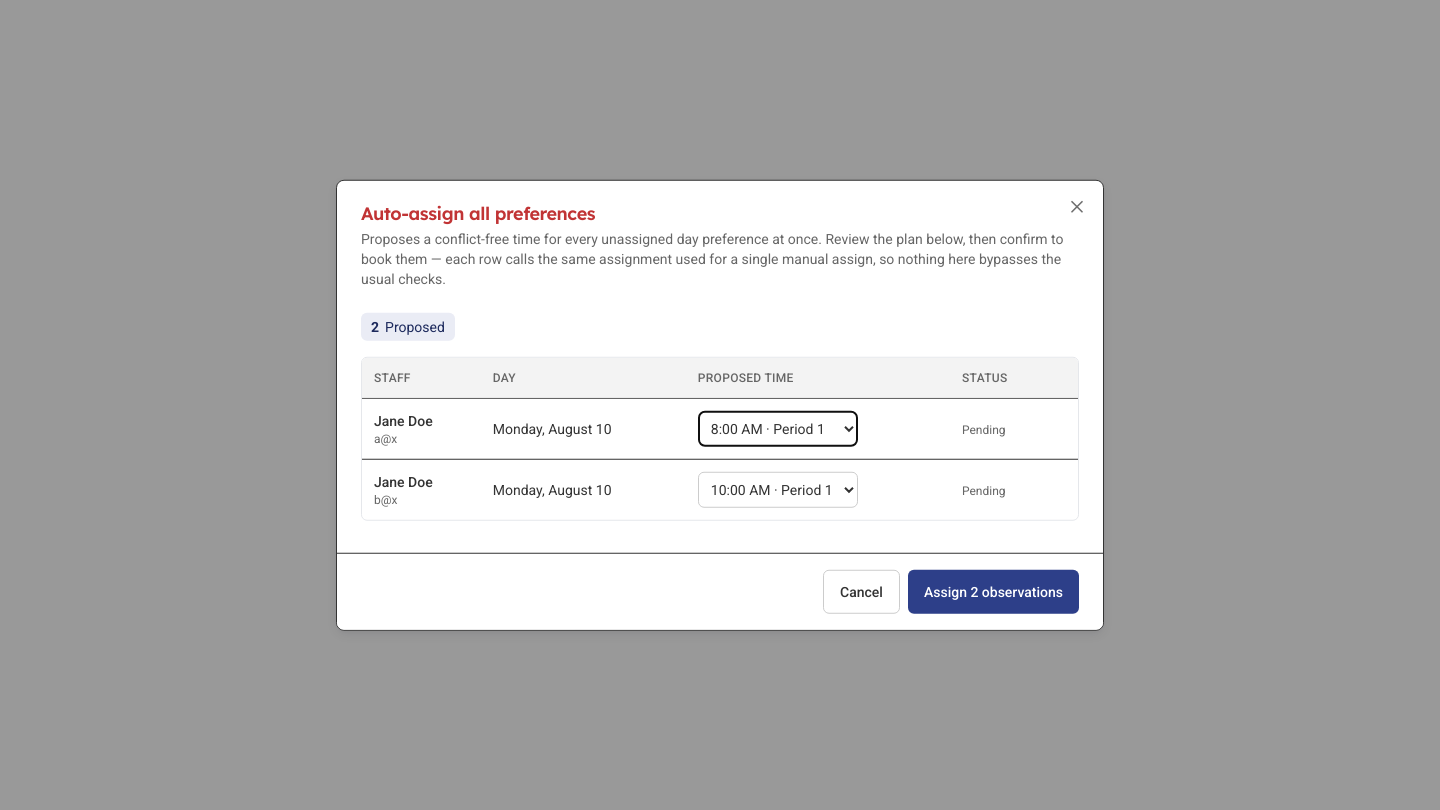
Test: AutoAssignDialog — manual slot override › shows a warning badge on both rows once an override points two rows at the same slot
Select "8:00 AM · Period 1" in the dropdown in the row of "b@x" at (778, 489), box [698,471,858,507]
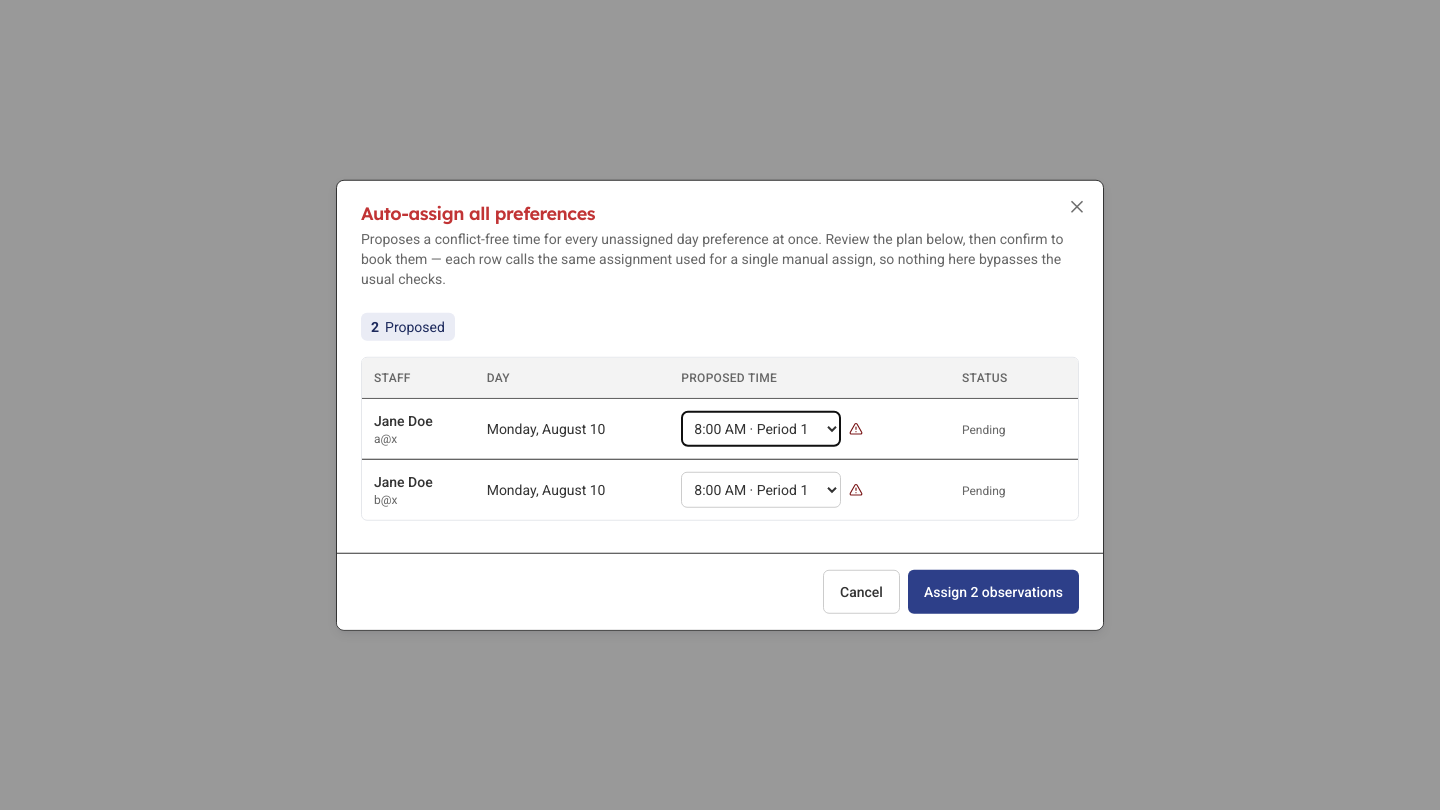
expect the number of elements titled "Another row is also pointed at this slot — one of them will fail." is 2: met, box [849,421,863,435]; [849,482,863,496]
